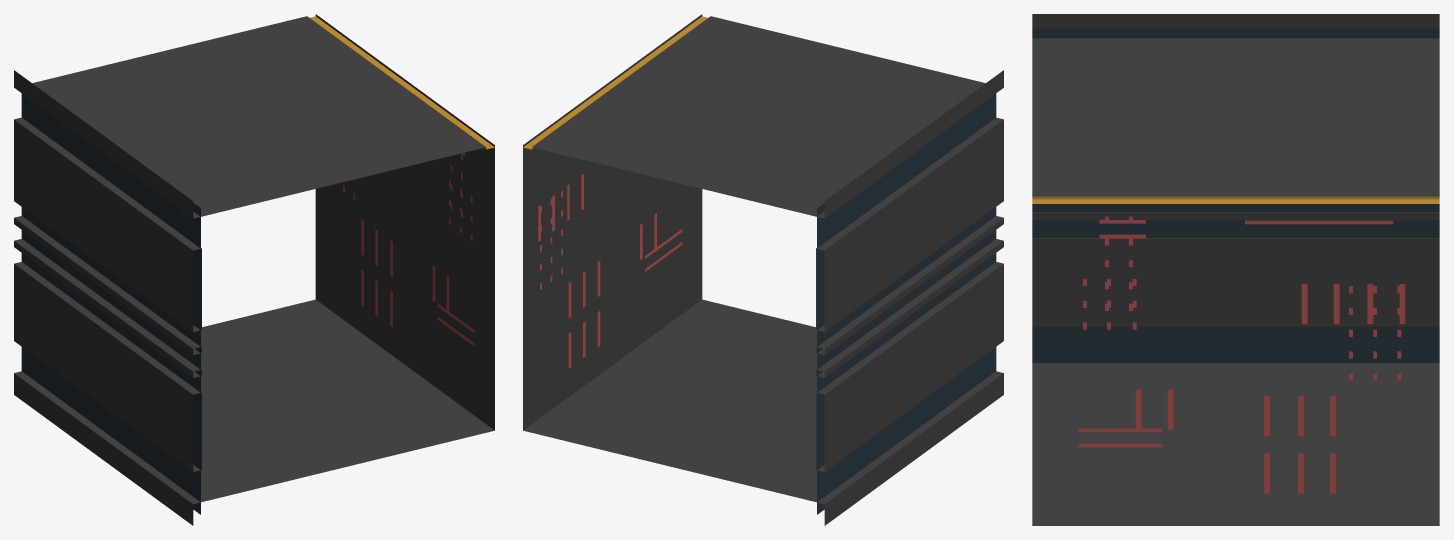
File: Wall_35_C.FBX
The picture shows the model from 3 angles, left to right: view 1: azimuth 30°, elevation 25°; view 2: azimuth 150°, elevation 25°; view 3: azimuth 270°, elevation 25°; orthographic projection. The views are drawn at different scales.
Parts seen in each view (by area): view 1: Wall_35_C_LOD0, Wall_35_Neon_C; view 2: Wall_35_C_LOD0, Wall_35_Neon_C, Wall_35_Neon_B; view 3: Wall_35_C_LOD0, Wall_35_Neon_C, Wall_35_Neon_B, Wall_35_Neon_A.
Boxes of the visible parts, x1=… form: Wall_35_C_LOD0: x1=14, y1=14, x2=494, y2=525; Wall_35_Neon_C: x1=361, y1=180, x2=472, y2=327; Wall_35_C_LOD0: x1=523, y1=14, x2=1003, y2=525; Wall_35_Neon_C: x1=568, y1=260, x2=600, y2=368; Wall_35_Neon_B: x1=538, y1=173, x2=682, y2=271; Wall_35_C_LOD0: x1=1032, y1=14, x2=1439, y2=525; Wall_35_Neon_C: x1=1083, y1=220, x2=1393, y2=493; Wall_35_Neon_B: x1=1078, y1=216, x2=1405, y2=447; Wall_35_Neon_A: x1=1099, y1=220, x2=1401, y2=429.
Size of what is drawn, in the model's own units: 175 by 180 by 180.
